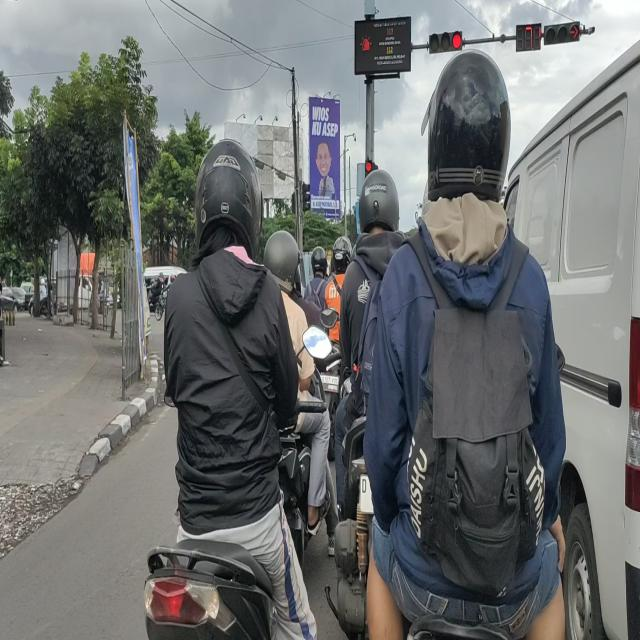helmet: (432, 54, 508, 187), (195, 138, 261, 245), (266, 227, 301, 290), (360, 176, 397, 230), (332, 236, 351, 271), (310, 248, 326, 278)
